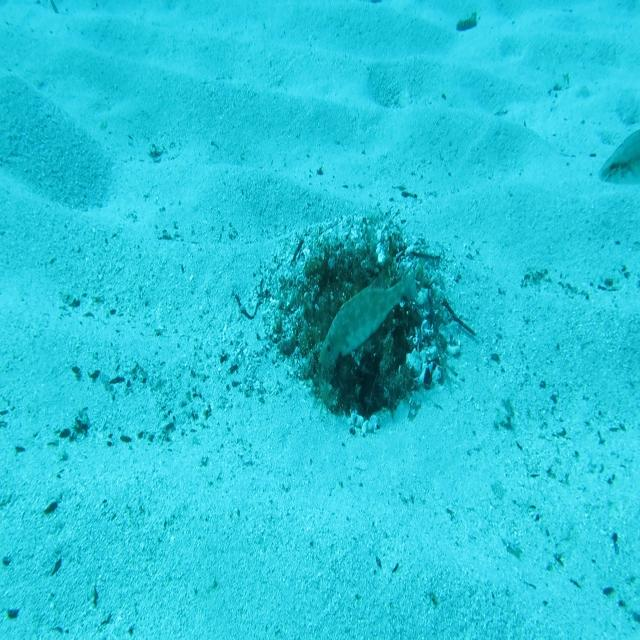NIP_IN: (318, 256, 421, 366)
core_nest: (328, 262, 374, 293)
female: (596, 126, 640, 189)
nest: (244, 195, 472, 445)
vegetation: (454, 8, 479, 32)
